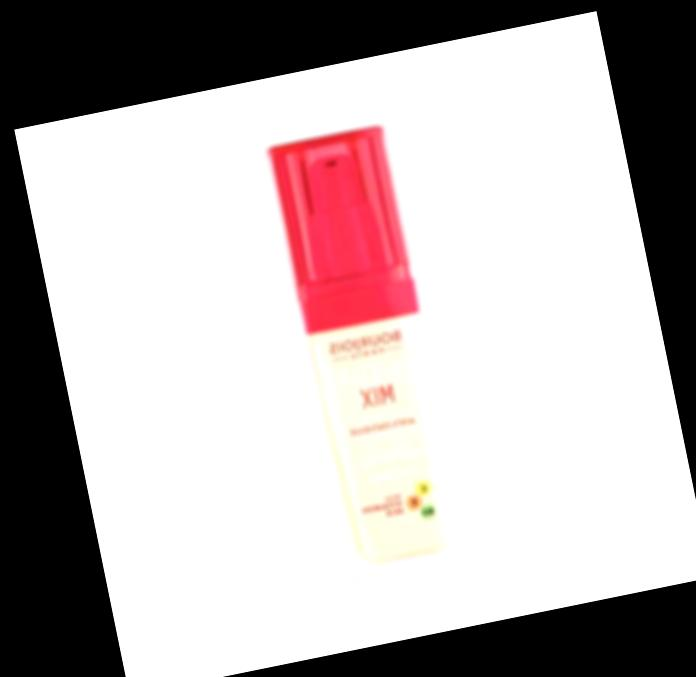cosmetic: (260, 123, 480, 599)
